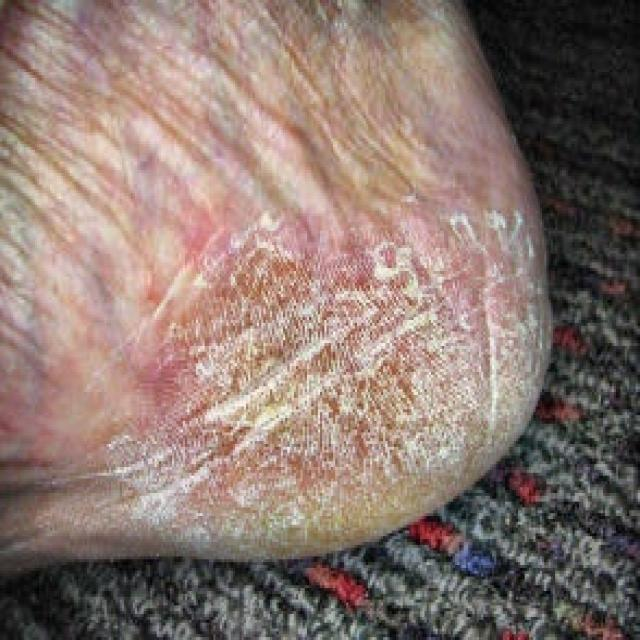Tinea Ringworm Candidiasis and other Fungal Infections: (156, 241, 527, 476)
